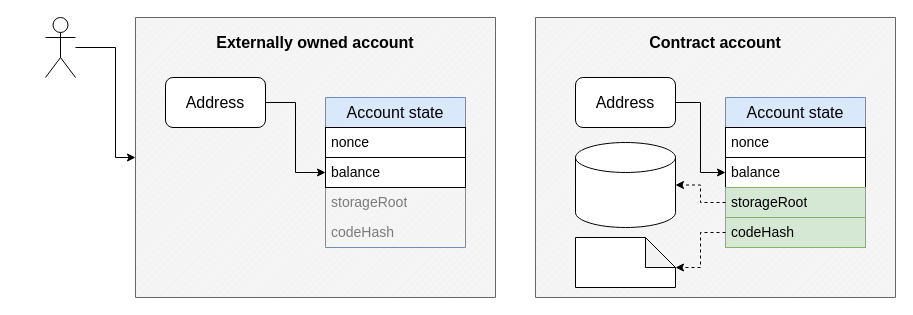
This 913x315 diagram has some shape labels left out. The shapes that lost their labels are listed below. From the top down, each one's centre as x and y in pixels, then its label:
At point 60,47: "External actor".
At point 625,185: "storage".
At point 625,262: "code".
